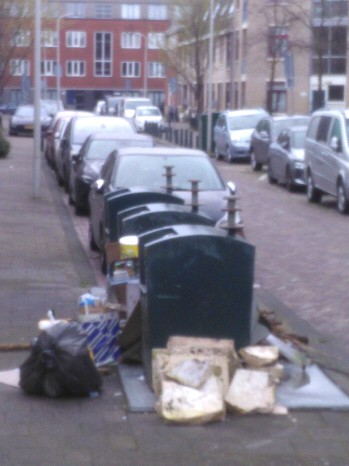Container: (145, 232, 246, 334), (137, 198, 216, 242), (116, 192, 187, 224)
Papier: (158, 341, 326, 440)
Rest: (31, 311, 128, 382), (96, 253, 133, 311)
Voertuig: (105, 144, 214, 231), (49, 105, 118, 178), (214, 104, 279, 177), (309, 112, 349, 229), (262, 114, 316, 192), (84, 129, 147, 191), (235, 101, 284, 178), (129, 94, 176, 144), (22, 99, 69, 147)
